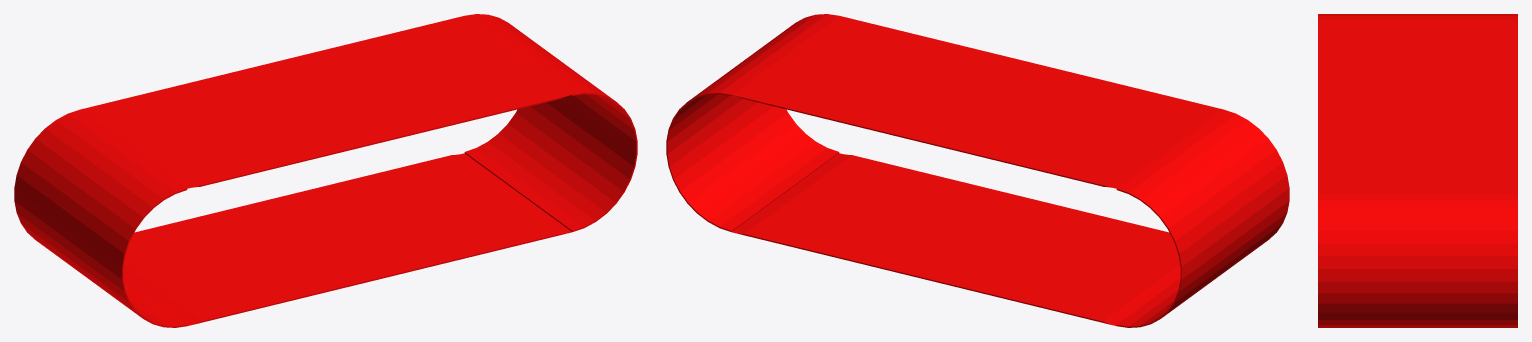
Rendered from crawler_r.dae.
3 views of the same model, side by side, from view 1: azimuth 30°, elevation 25°; view 2: azimuth 150°, elevation 25°; view 3: azimuth 270°, elevation 25° (orthographic). The views are drawn at different scales.
Parts seen in each view (by area): view 1: Crawler; view 2: Crawler; view 3: Crawler.
Part boxes in pixels (<box>): Crawler: <box>14,14,637,327</box>; Crawler: <box>666,14,1289,327</box>; Crawler: <box>1318,14,1517,327</box>.
Size of the model in its own units: 0.4 by 0.145 by 0.102.
